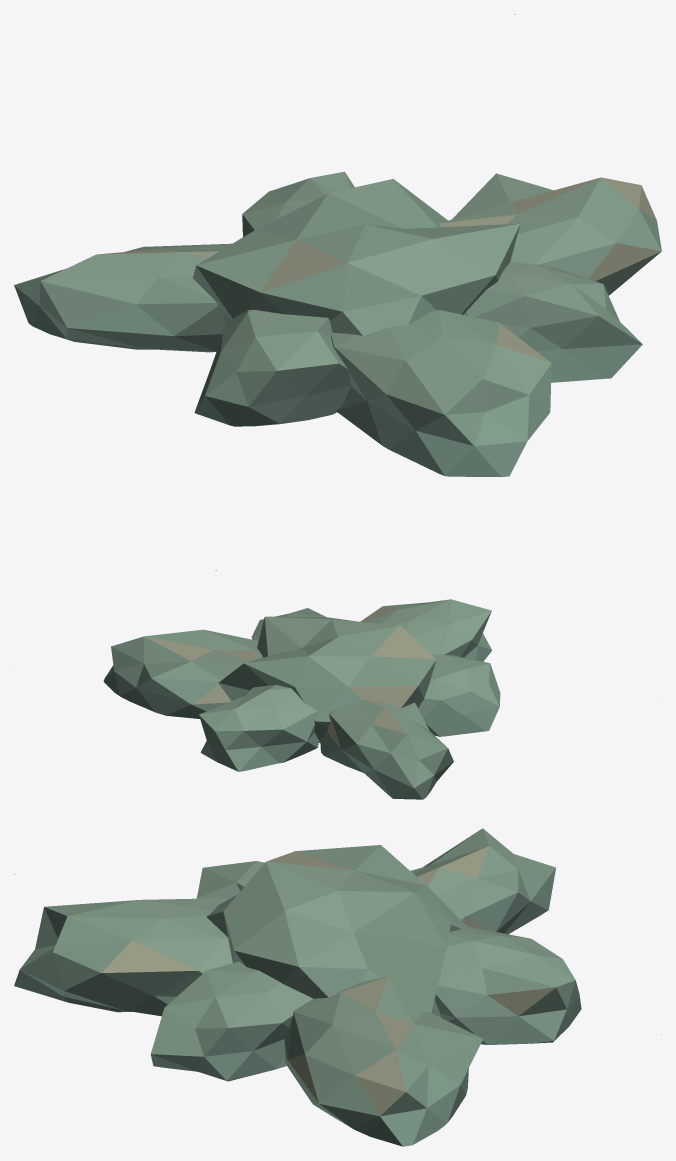
File: Juniper1_leaf.glb
3 renders of one model, top to bottom at view 1: azimuth 30°, elevation 25°; view 2: azimuth 150°, elevation 25°; view 3: azimuth 270°, elevation 25°, orthographic. The views are drawn at different scales.
Visible parts, largest first — view 1: Juniper1_leaf; view 2: Juniper1_leaf; view 3: Juniper1_leaf.
Part boxes in pixels (x1,y1,x2,y2): Juniper1_leaf: (14,14,661,570); Juniper1_leaf: (14,599,661,799); Juniper1_leaf: (14,828,661,1146).
Size of the model in its own units: 7.32 by 1.55 by 6.82.
